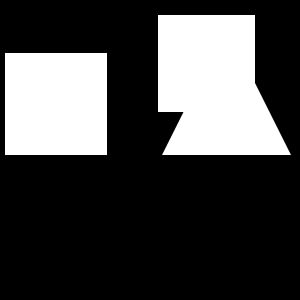circle: (5, 53, 107, 155), (158, 15, 255, 112)
triangle: (162, 26, 291, 155)
